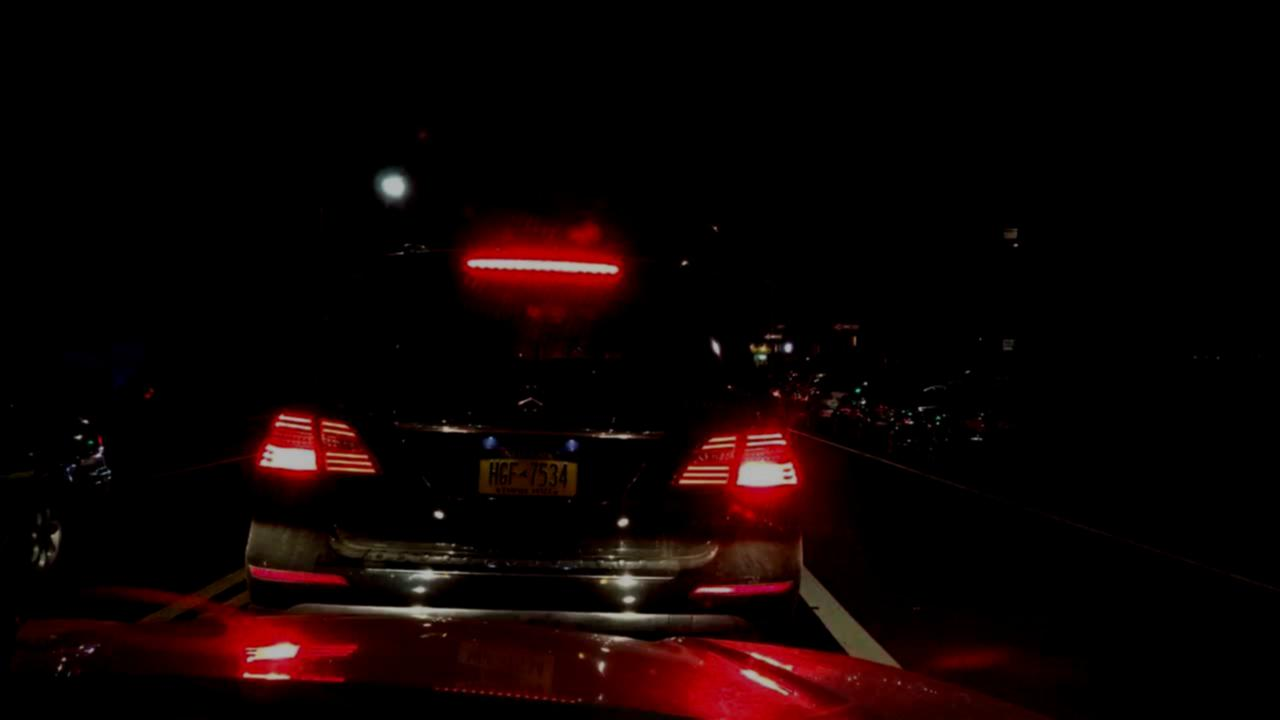Mercedes: (500, 373, 566, 426)
